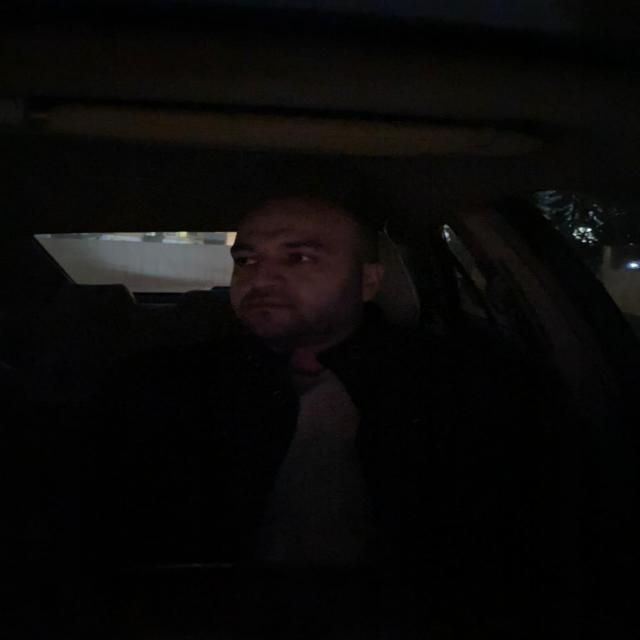person: (219, 185, 390, 351)
